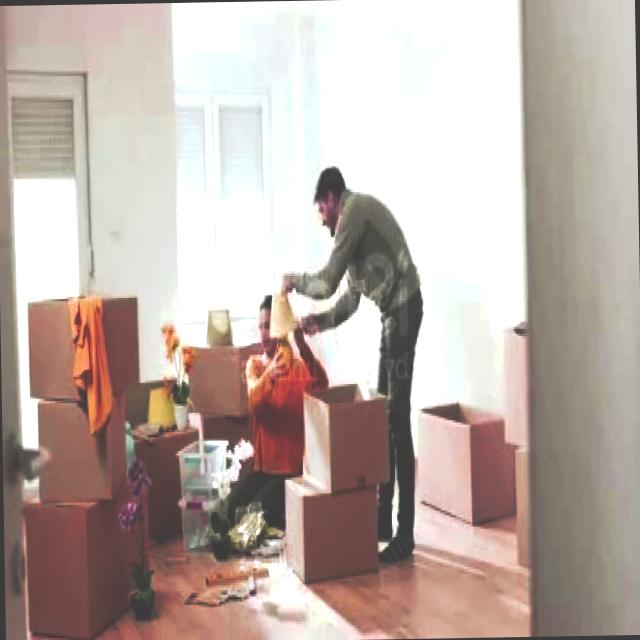Box: (11, 489, 139, 640), (13, 294, 143, 406), (414, 399, 516, 534), (276, 476, 386, 586), (32, 399, 125, 507), (306, 384, 392, 496)
